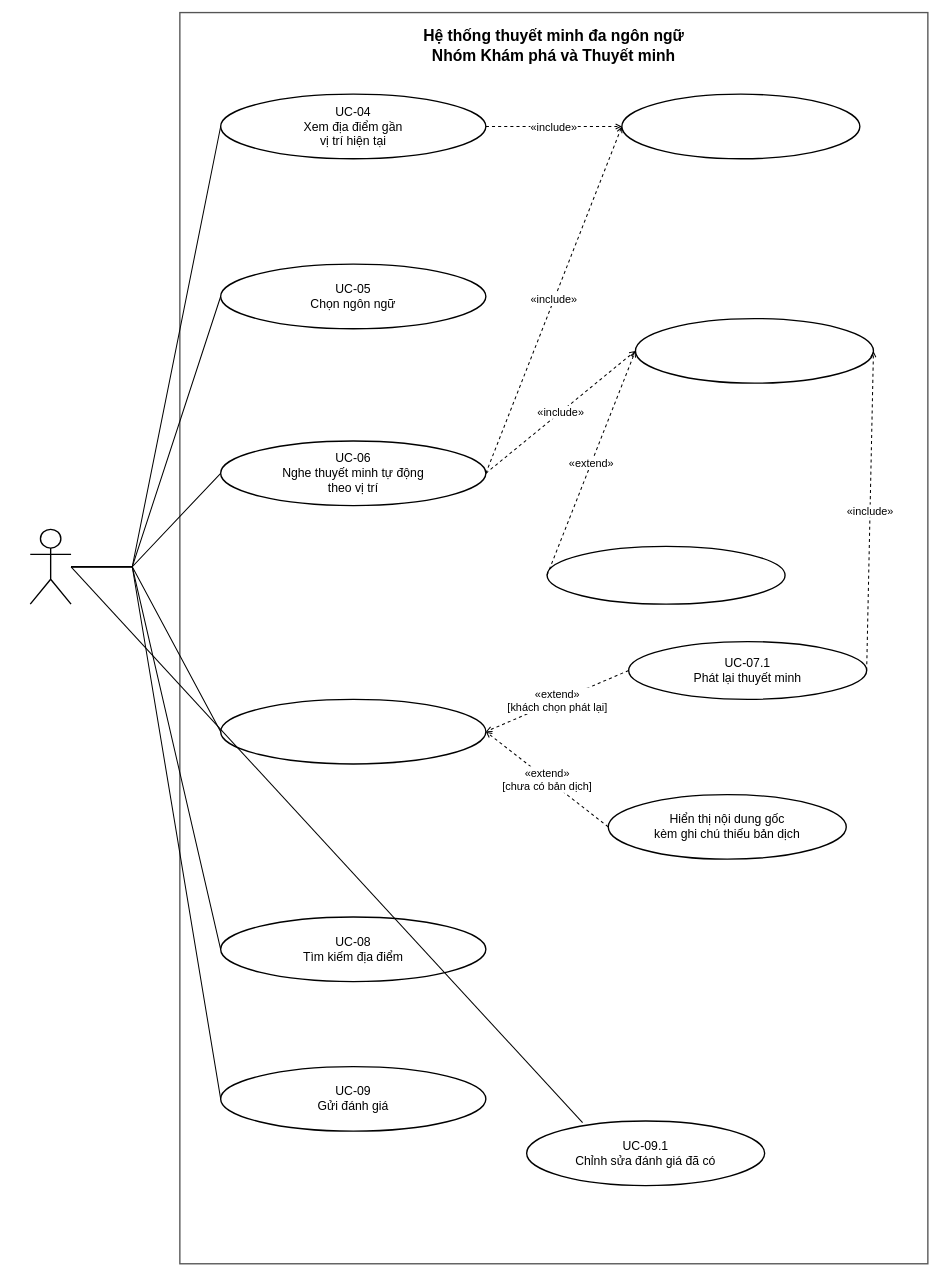
This 940x1276 diagram has some shape labels left out. The shapes that lost their labels are listed below. From the top down, each one's centre as x and y in pixels, then its label:
pixel 740 126: Lấy vị trí và tính khoảng cách
pixel 754 351: Lấy audio thuyết minh theo ngôn ngữ đã chọn
pixel 50 566: Khách du lịch
pixel 665 575: Tạo audio bằng TTS
pixel 353 731: UC-07 Xem thông tin chi tiết địa điểm
